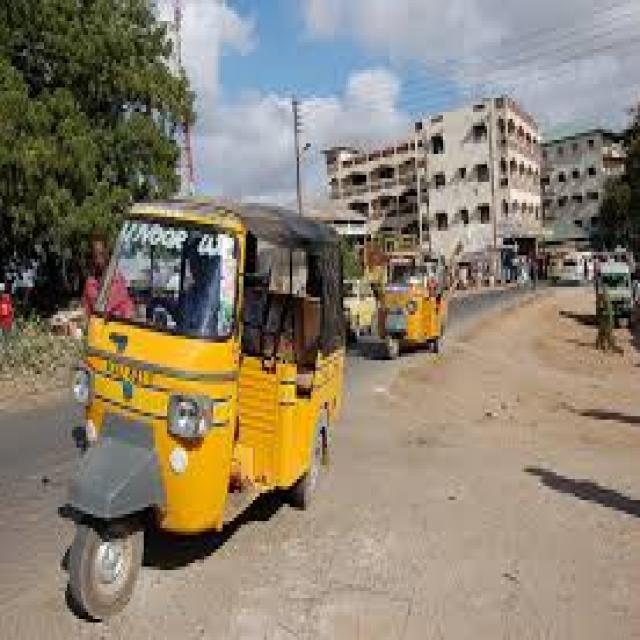tuktuk: (21, 108, 358, 618), (374, 238, 470, 413)
